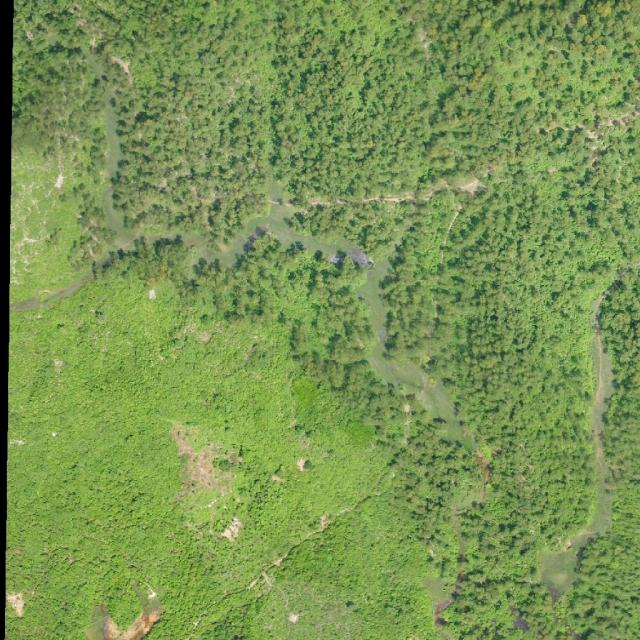dryland: (77, 579, 172, 640)
